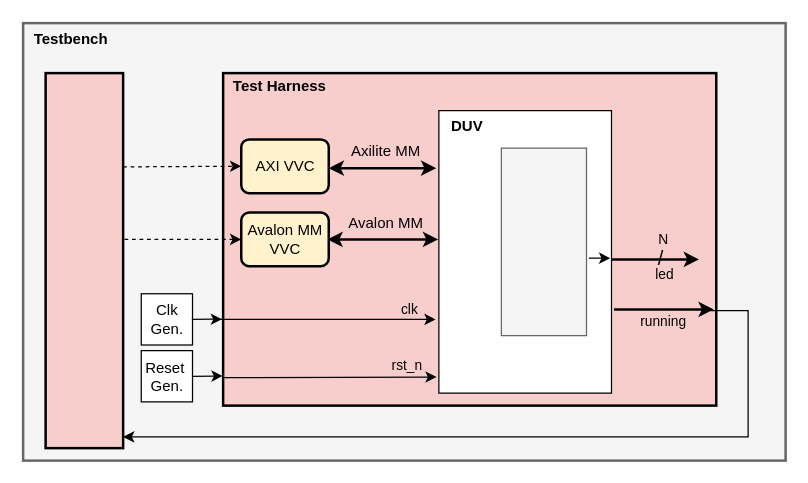
Image size: 808x483. Some labels were removed from this diagram. Each missing label, with the box of its shape:
Memory: (500, 147, 586, 336)
Test Sequence: (44, 71, 124, 449)
